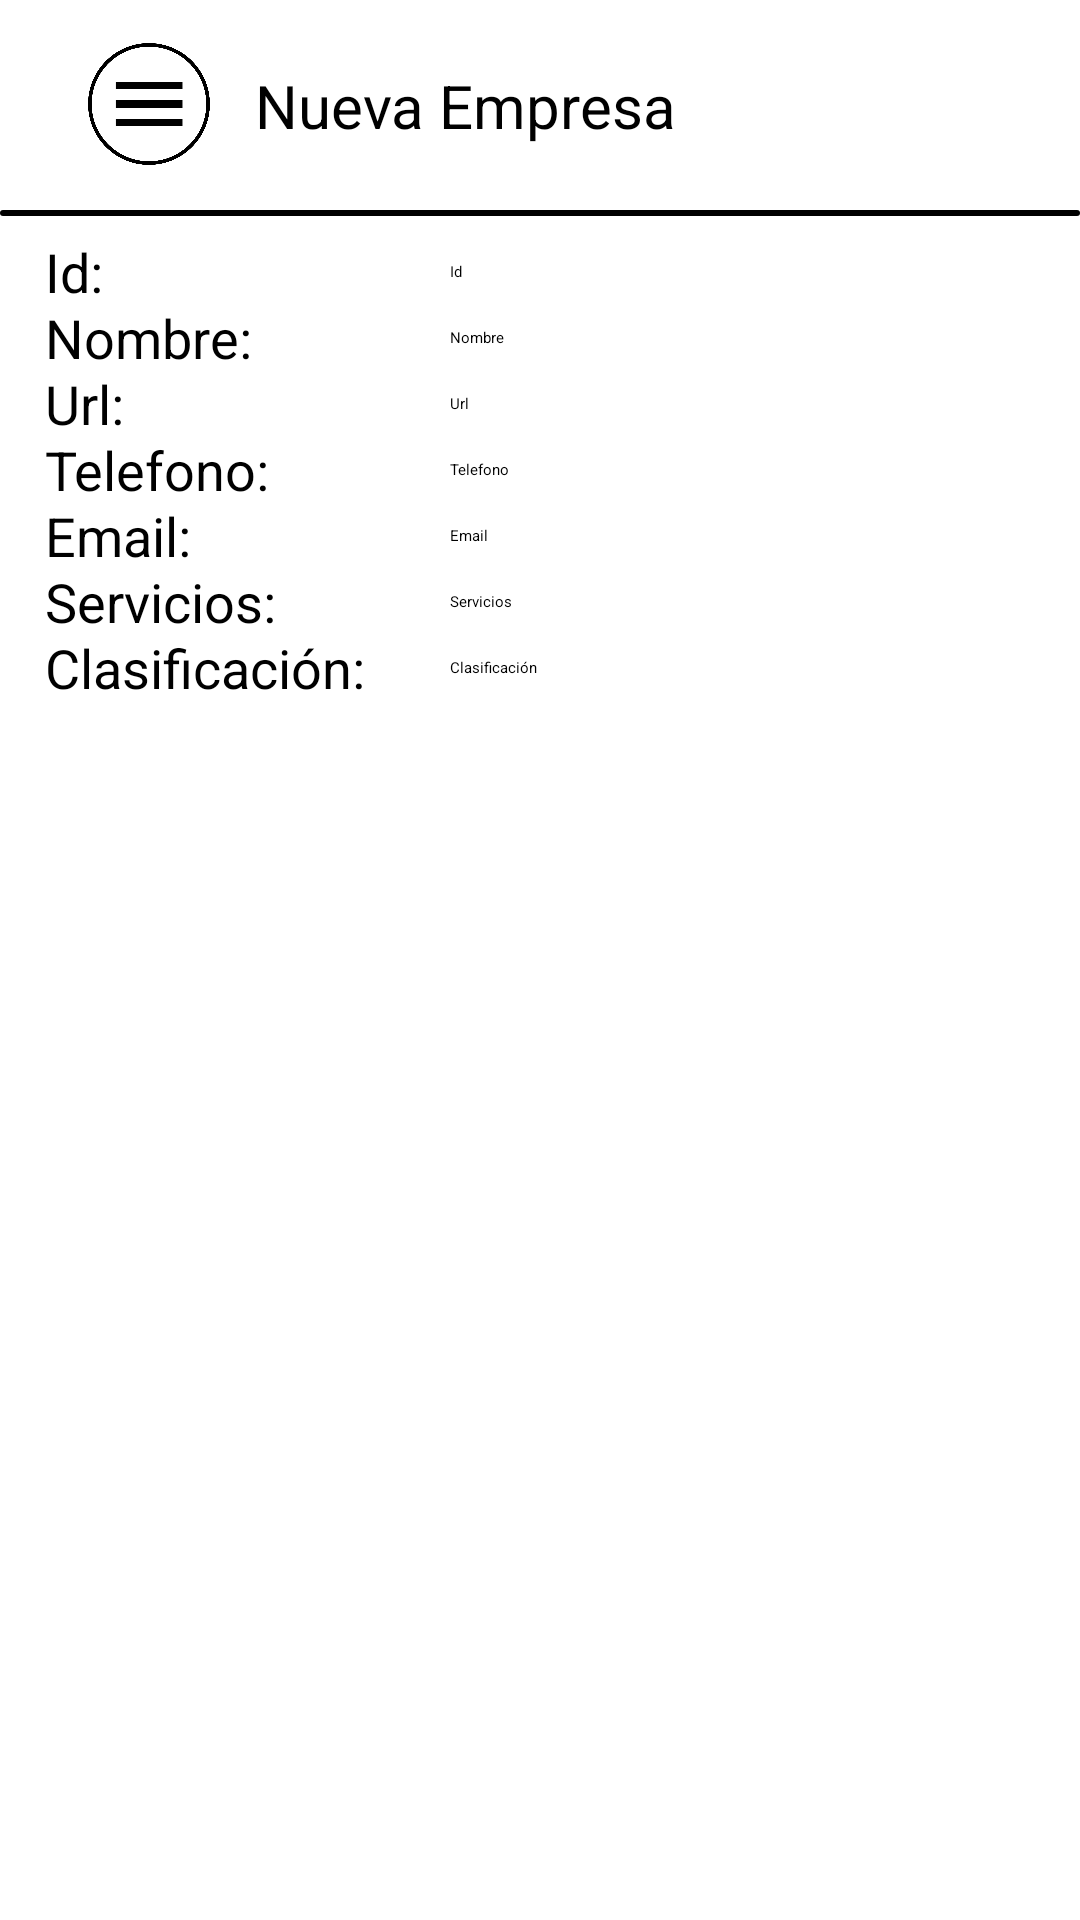

Named icons in this screenshot (1080px x 1920px) and their centers, [x,y]:
menu: [149,104]
